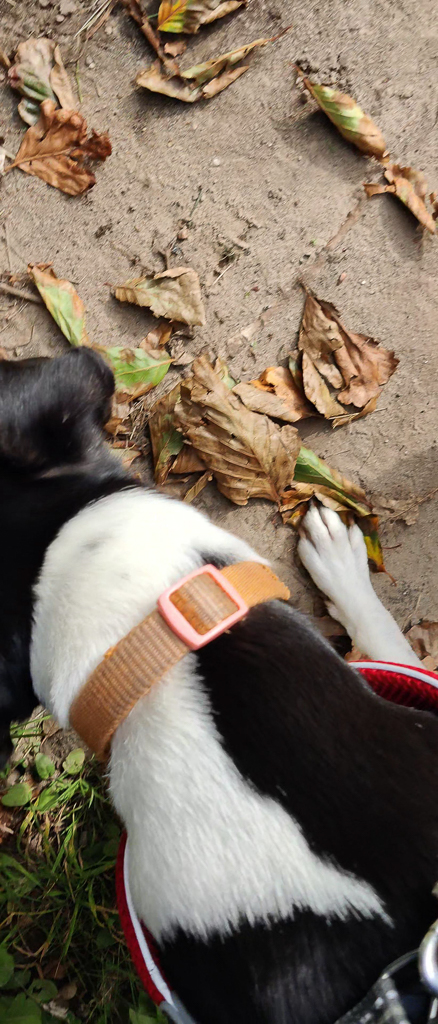Dog: (0, 326, 438, 1024)
